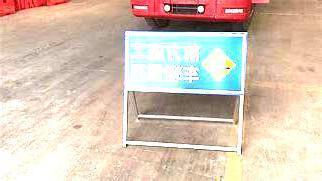sign: (125, 31, 246, 92)
